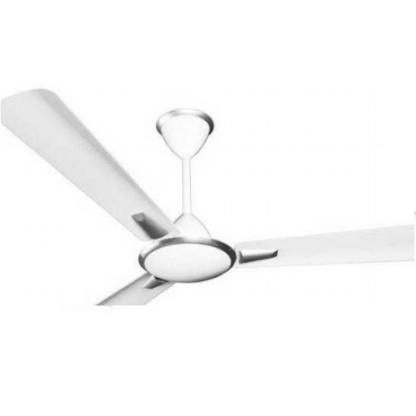ceiling-fan: (1, 86, 415, 306)
